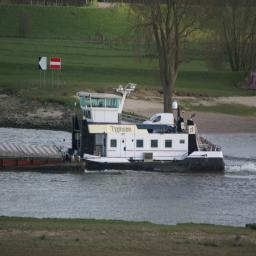tugboat: (68, 81, 229, 180)
